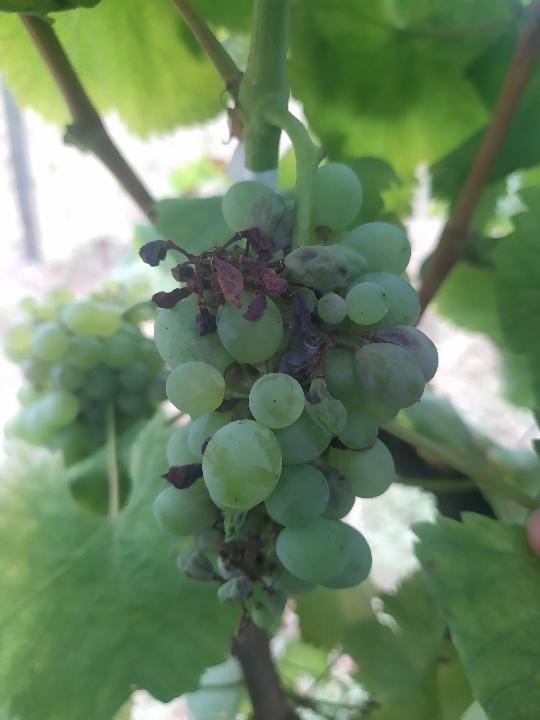grape: (134, 159, 441, 647)
